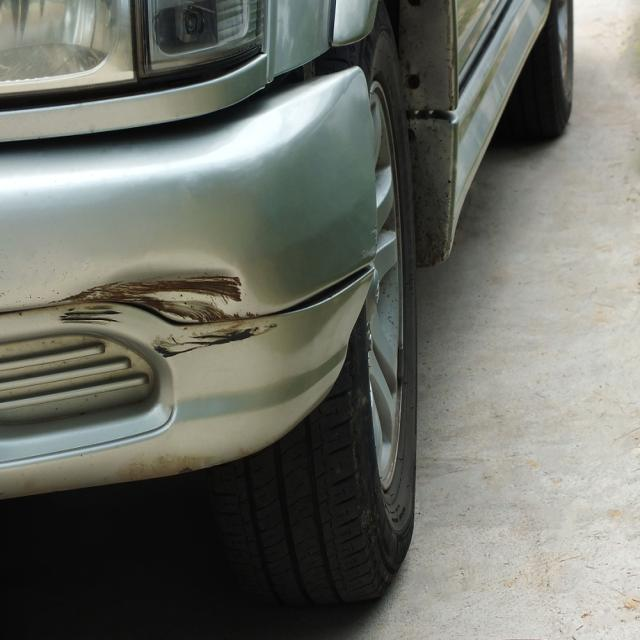dent: (89, 254, 252, 323)
scratch: (151, 320, 283, 361), (49, 286, 125, 330)
